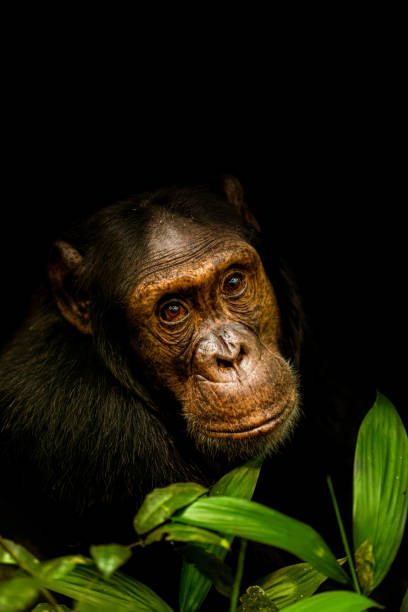chimpanzee: (28, 152, 370, 491)
